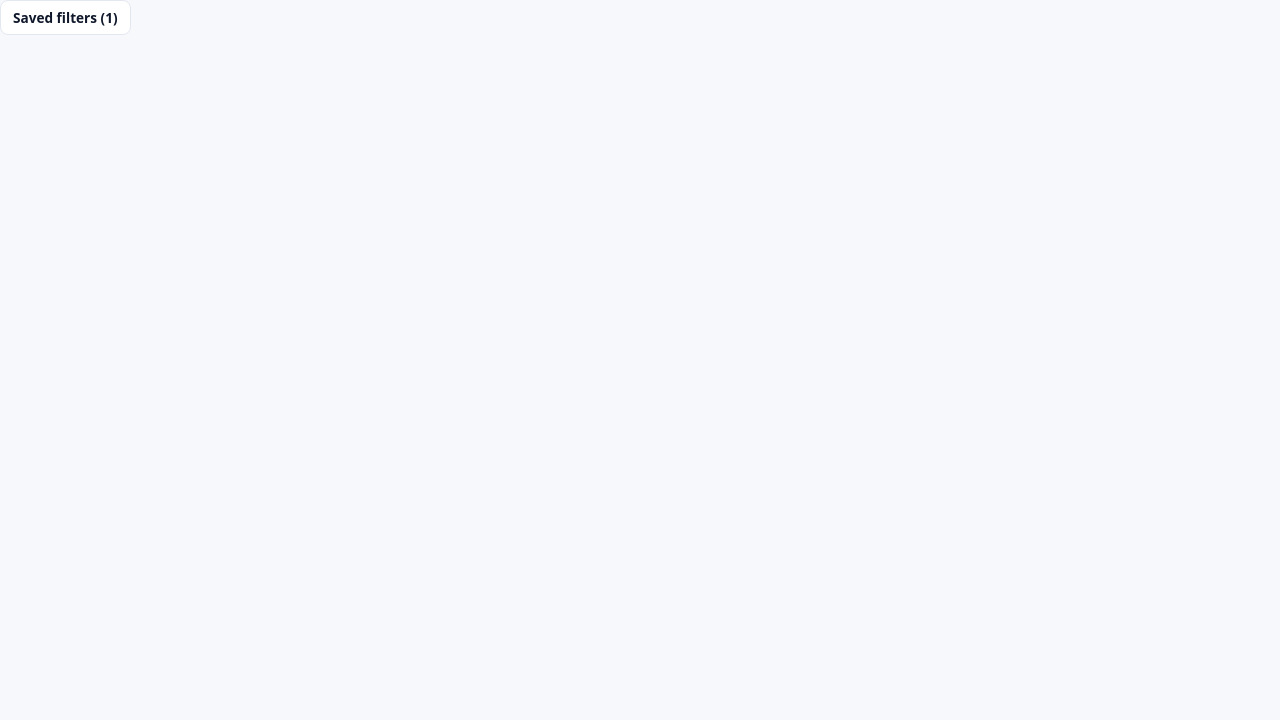
Test case: FilterPresets › applies, renames, and deletes a saved preset with menu actions
Later steps or results of the test are not shown.
Click the button "Saved filters (1)": (65,18) [0,0,131,35]
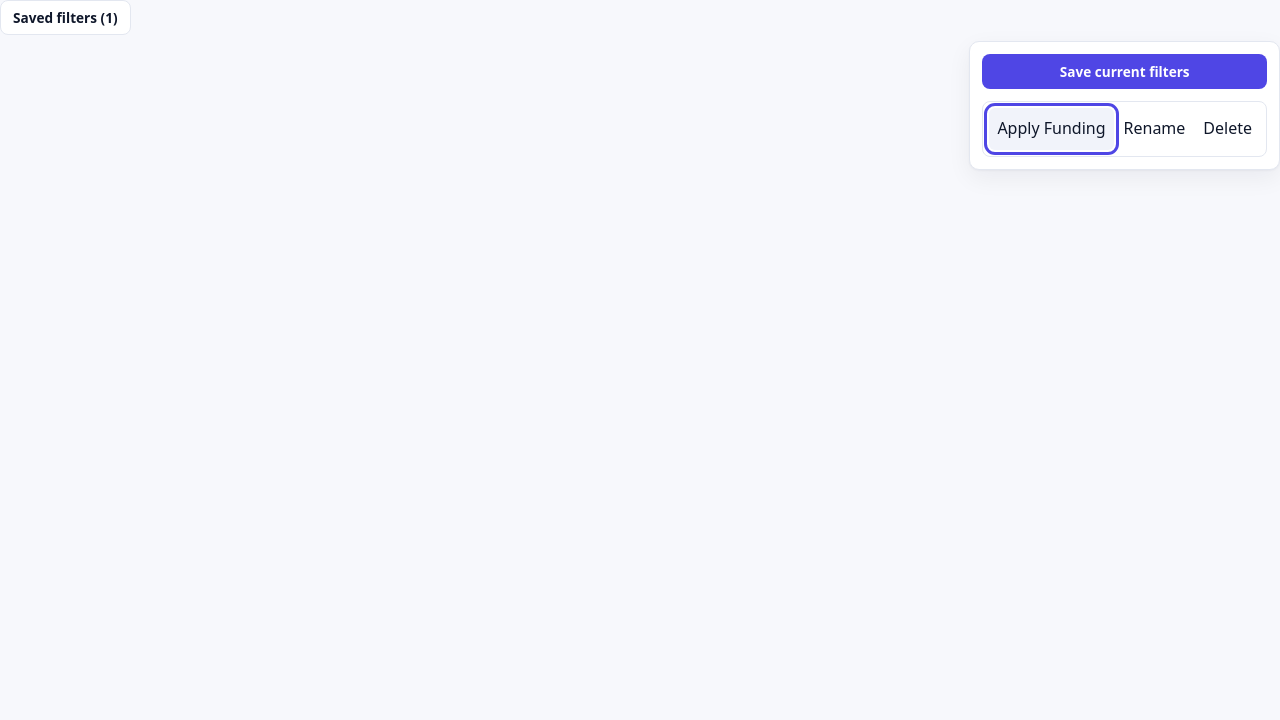
Expected: the menu named "Saved filter presets" is shown, [982,101,1267,157]
